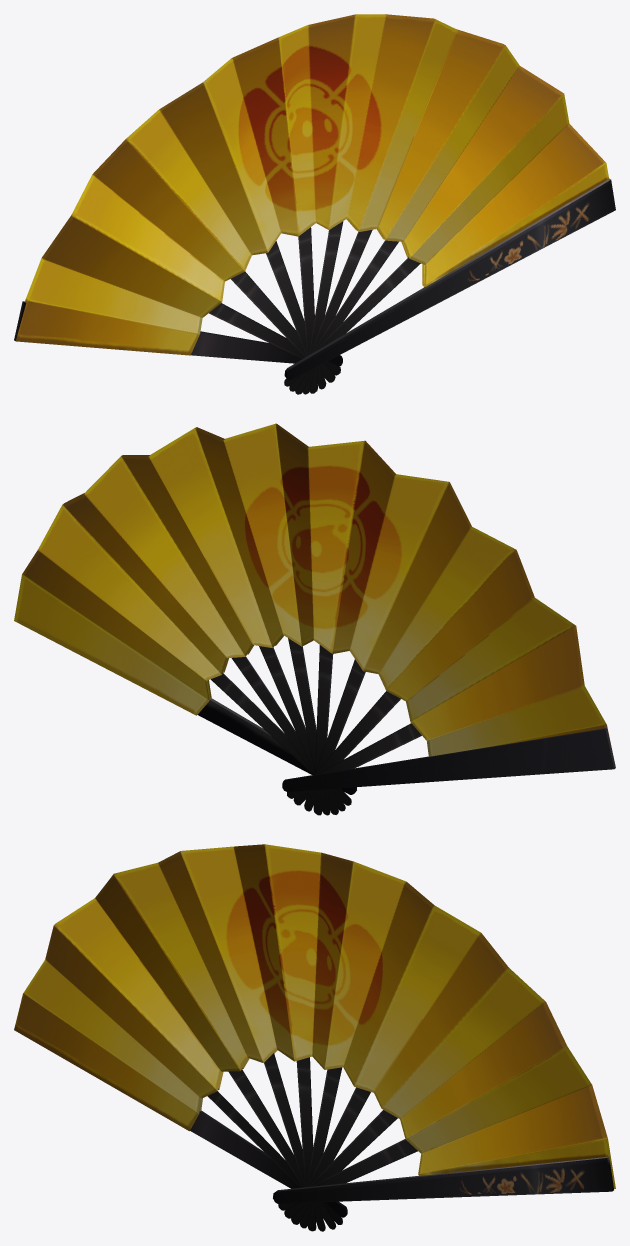
The model's file is Weapon_Foldingfan_truncheon.fbx.
3 renders of one model, top to bottom at view 1: azimuth 30°, elevation 25°; view 2: azimuth 150°, elevation 25°; view 3: azimuth 330°, elevation 25°, orthographic. The views are drawn at different scales.
Visible parts, largest first — view 1: Weapon_foldingfan_truncheon; view 2: Weapon_foldingfan_truncheon; view 3: Weapon_foldingfan_truncheon.
Part boxes in pixels (x1,y1,x2,y2): Weapon_foldingfan_truncheon: [14, 14, 615, 394]; Weapon_foldingfan_truncheon: [14, 423, 615, 815]; Weapon_foldingfan_truncheon: [14, 844, 615, 1231].
Size of the model in its own units: 98.7 by 59.01 by 5.82.
